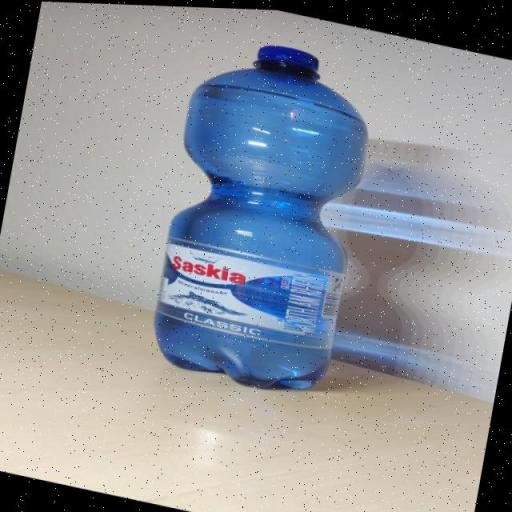plastic: (142, 25, 384, 403)
